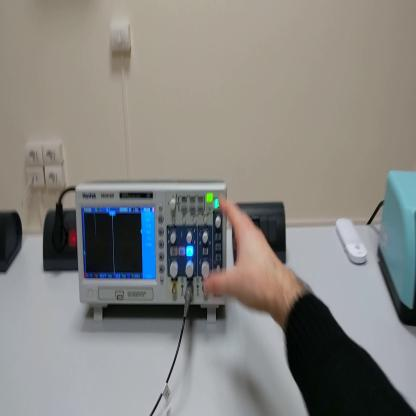hand: (202, 197, 280, 313)
oscilloscope: (74, 174, 230, 322)
socket: (41, 211, 79, 273), (1, 209, 26, 278)
welder station: (377, 166, 416, 326)
